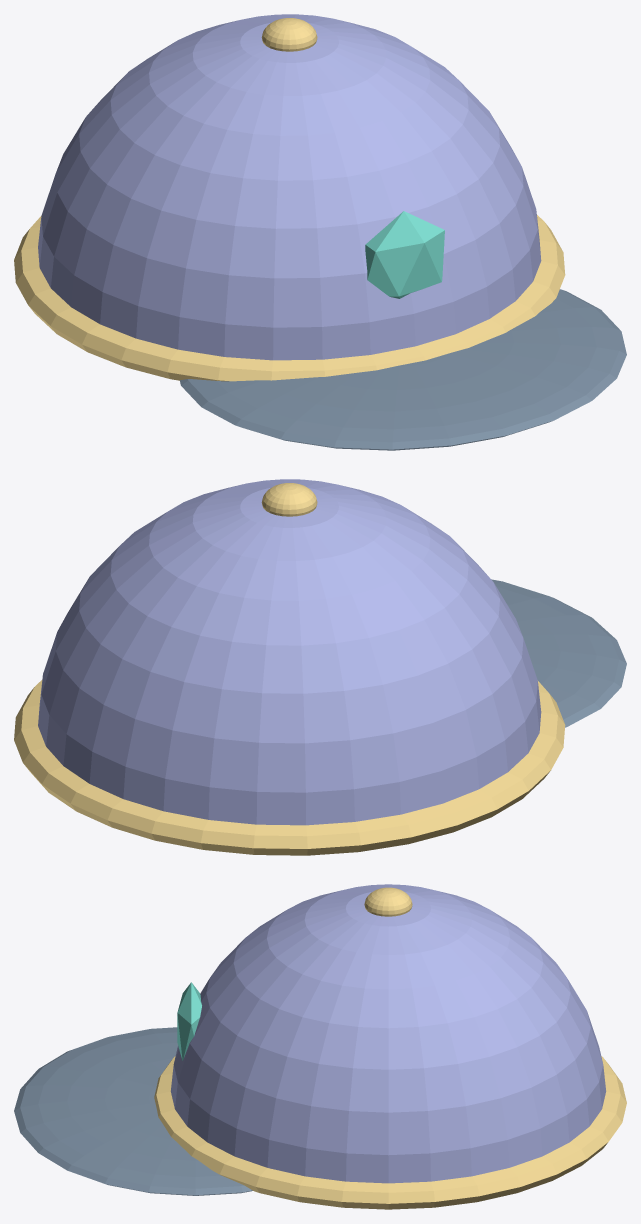
The picture shows the model from 3 angles, top to bottom: view 1: azimuth 30°, elevation 25°; view 2: azimuth 150°, elevation 25°; view 3: azimuth 270°, elevation 25°; orthographic projection. The views are drawn at different scales.
Visible parts, largest first — view 1: Copa, Aba, Faixa, Emblema, Botão; view 2: Copa, Faixa, Aba, Botão; view 3: Copa, Aba, Faixa, Emblema, Botão.
Boxes of the visible parts, x1,y1,x2,y2 form: Copa: (38,14,541,360); Aba: (179,289,626,450); Faixa: (14,215,565,381); Emblema: (365,211,444,298); Botão: (261,18,317,51); Copa: (38,479,541,825); Faixa: (14,680,565,855); Aba: (491,579,626,727); Botão: (261,483,317,516); Copa: (170,884,606,1183); Aba: (14,1027,252,1195); Faixa: (154,1056,626,1209); Emblema: (177,982,201,1060); Botão: (364,887,412,916).
Bounding box in the file's own units: 2.18 × 1.18 × 2.8.
